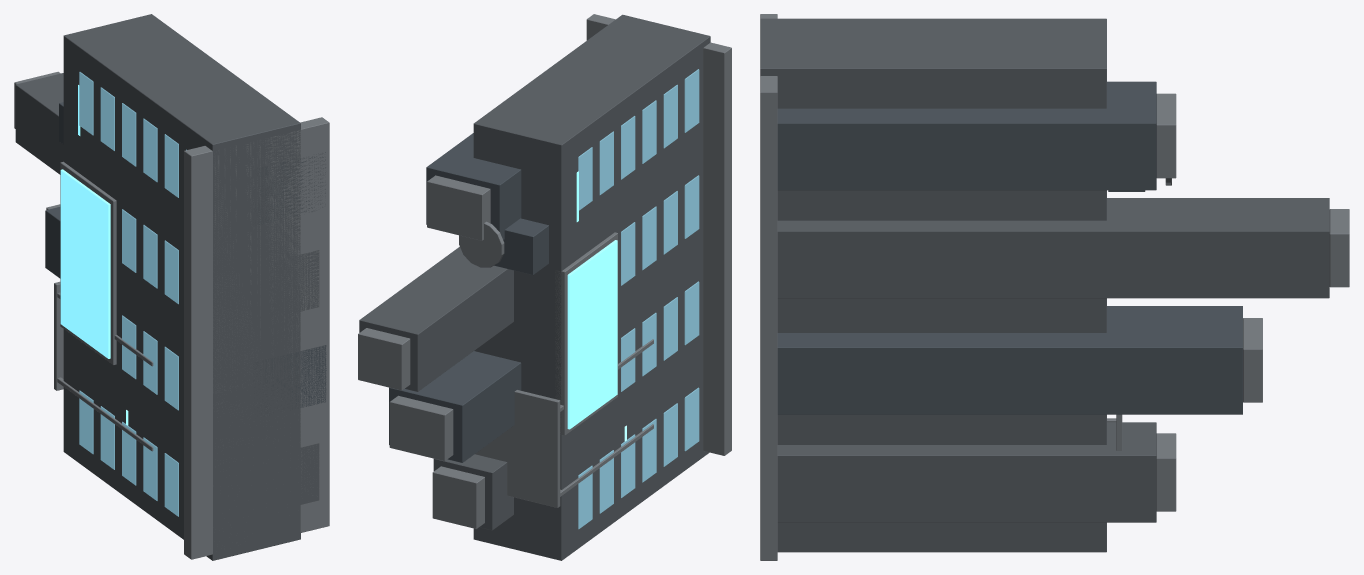
The model's file is far_facade_shell_yard_r.glb.
3 views of the same model, side by side, from view 1: azimuth 30°, elevation 25°; view 2: azimuth 150°, elevation 25°; view 3: azimuth 270°, elevation 25° (orthographic). The views are drawn at different scales.
Parts seen in each view (by area): view 1: FlightKit_FarFacadeMass_yard_R; view 2: FlightKit_FarFacadeMass_yard_R; view 3: FlightKit_FarFacadeMass_yard_R.
Boxes of the visible parts, box(x1,y1,x2,y2) form: FlightKit_FarFacadeMass_yard_R: box(14, 14, 329, 560); FlightKit_FarFacadeMass_yard_R: box(358, 14, 731, 560); FlightKit_FarFacadeMass_yard_R: box(760, 14, 1349, 560).
Bounding box in the file's own units: 7.5 × 21.56 × 23.8.
